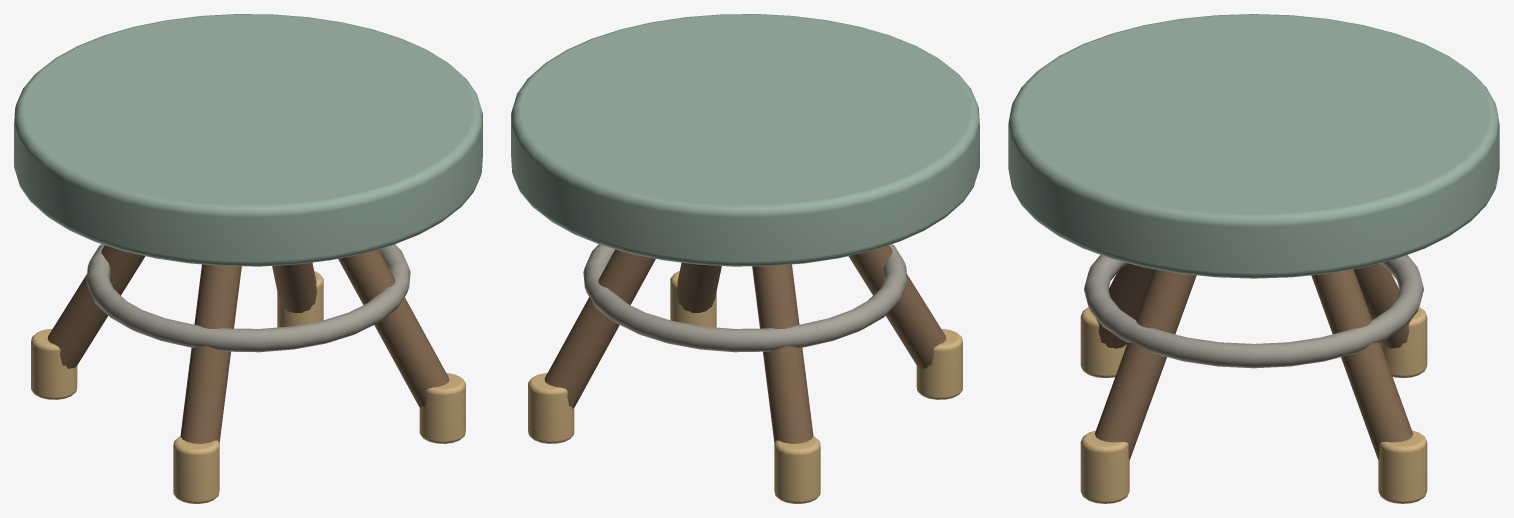
Rendered from meeting_stool.glb.
3 views of the same model, side by side, from view 1: azimuth 30°, elevation 25°; view 2: azimuth 150°, elevation 25°; view 3: azimuth 270°, elevation 25° (orthographic). The views are drawn at different scales.
Parts seen in each view (by area): view 1: Seat cushion.002, Stool foot rest, Splayed stool leg.002, Splayed stool leg.003, Splayed stool leg.001, Brass foot ferrule.002, Brass foot ferrule.003, Brass foot ferrule.001, Splayed stool leg, Brass foot ferrule; view 2: Seat cushion.002, Stool foot rest, Splayed stool leg.001, Splayed stool leg, Splayed stool leg.002, Brass foot ferrule.001, Brass foot ferrule, Brass foot ferrule.002, Splayed stool leg.003, Brass foot ferrule.003; view 3: Seat cushion.002, Stool foot rest, Splayed stool leg, Splayed stool leg.003, Brass foot ferrule, Brass foot ferrule.003, Splayed stool leg.001, Splayed stool leg.002, Brass foot ferrule.001, Brass foot ferrule.002.
Part boxes in pixels (x1,y1,x2,y2): Seat cushion.002: [14, 14, 482, 266]; Stool foot rest: [86, 244, 410, 352]; Splayed stool leg.002: [180, 264, 241, 443]; Splayed stool leg.003: [338, 249, 449, 408]; Splayed stool leg.001: [47, 245, 145, 368]; Brass foot ferrule.002: [173, 436, 219, 503]; Brass foot ferrule.003: [419, 373, 465, 443]; Brass foot ferrule.001: [31, 329, 77, 399]; Splayed stool leg: [272, 262, 316, 312]; Brass foot ferrule: [277, 271, 323, 327]; Seat cushion.002: [511, 14, 979, 266]; Stool foot rest: [583, 244, 907, 352]; Splayed stool leg.001: [752, 264, 813, 443]; Splayed stool leg: [544, 249, 655, 408]; Splayed stool leg.002: [848, 245, 946, 368]; Brass foot ferrule.001: [774, 436, 820, 503]; Brass foot ferrule: [528, 373, 574, 443]; Brass foot ferrule.002: [916, 329, 962, 399]; Splayed stool leg.003: [677, 262, 721, 312]; Brass foot ferrule.003: [670, 271, 716, 327]; Seat cushion.002: [1008, 14, 1499, 278]; Stool foot rest: [1084, 255, 1423, 368]; Splayed stool leg: [1311, 269, 1412, 459]; Splayed stool leg.003: [1095, 269, 1196, 459]; Brass foot ferrule: [1378, 430, 1427, 503]; Brass foot ferrule.003: [1080, 430, 1129, 503]; Splayed stool leg.001: [1354, 263, 1411, 348]; Splayed stool leg.002: [1096, 263, 1153, 348]; Brass foot ferrule.001: [1381, 307, 1427, 377]; Brass foot ferrule.002: [1080, 307, 1126, 377].
Size of the model in its own units: 0.28 by 0.2 by 0.28.
